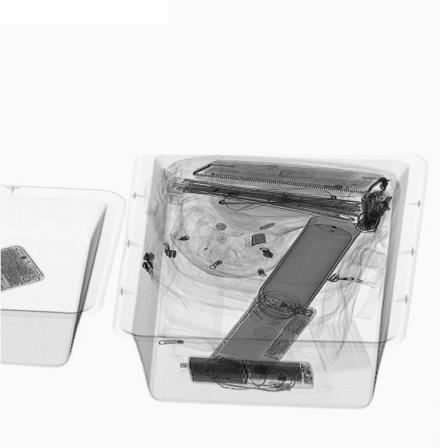Powerbank: (182, 359, 314, 390)
